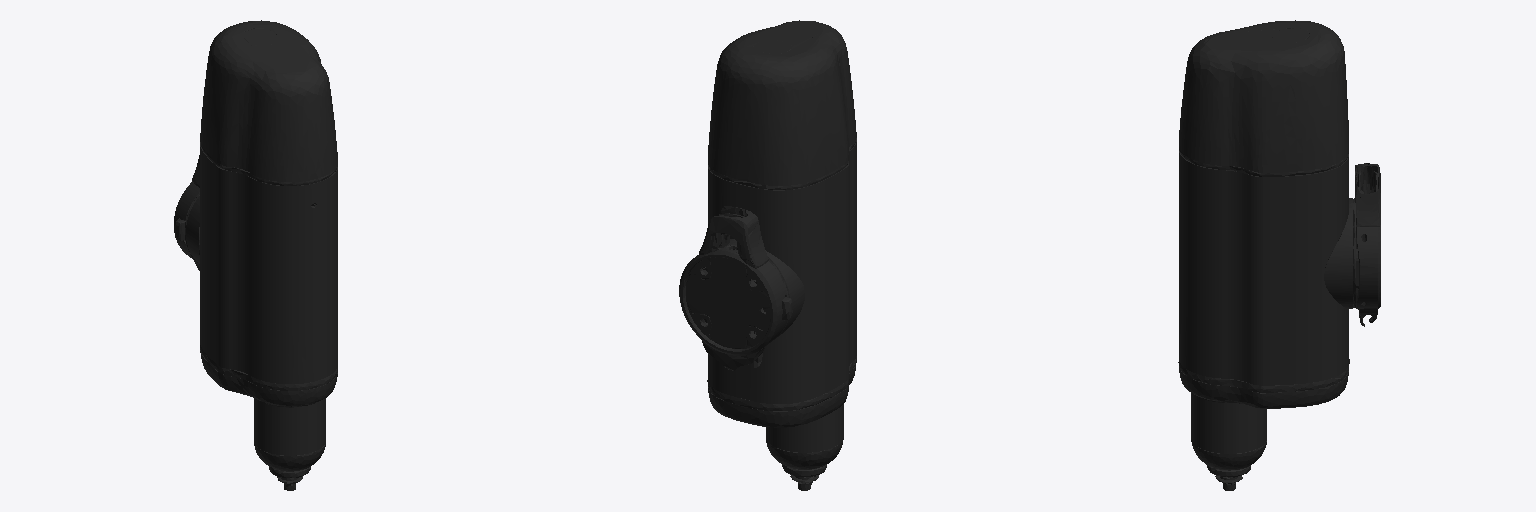
robot.urdf — onrobot_sd:
<?xml version="1.0" ?>
<!-- =================================================================================== -->
<!-- |    This document was autogenerated by xacro from onrobot_sd.urdf.xacro               | -->
<!-- |    EDITING THIS FILE BY HAND IS NOT RECOMMENDED                                 | -->
<!-- =================================================================================== -->
<robot name="onrobot_sd">
  <link name="world"/>
  <link name="base_link">
    <inertial>
      <origin rpy="0 0 0" xyz="0 0 0.04607"/>
      <mass value="2.5"/>
      <inertia ixx="1.22763e-05" ixy="0.0" ixz="0.0" iyy="1.22763e-05" iyz="0.0" izz="1.22763e-05"/>
    </inertial>
    <visual>
      <origin rpy="0.0 0.0 0.0" xyz="0.0 0.0 0.0"/>
      <geometry>
        <mesh filename="package://onrobot_sd_description/meshes/visual/onrobot_sd.stl" scale="1 1 1"/>
      </geometry>
      <material name="">
        <color rgba="0.2 0.2 0.2 1"/>
      </material>
    </visual>
    <collision>
      <origin rpy="0.0 0.0 0.0" xyz="0.0 0.0 0.0"/>
      <geometry>
        <mesh filename="package://onrobot_sd_description/meshes/collision/onrobot_sd.stl" scale="1 1 1"/>
      </geometry>
    </collision>
  </link>
  <joint name="world_fixed_joint" type="fixed">
    <origin rpy="0.0 0.0 0.0" xyz="0.0 0.0 0.0"/>
    <parent link="world"/>
    <child link="base_link"/>
  </joint>
</robot>

--- What the picture shows (computed from the rendered views, not written in the file) ---
3 views of the same robot in one strip: view 1: azimuth 30°, elevation 25°; view 2: azimuth 150°, elevation 25°; view 3: azimuth 270°, elevation 25° (orthographic).
Model onrobot_sd with 2 links and 1 joints (1 fixed), rooted at world, posed all joints at 0.
Visible links, largest first — view 1: base_link; view 2: base_link; view 3: base_link.
Boxes of the visible links, x1,y1,x2,y2 form: base_link: [174, 20, 337, 490]; base_link: [679, 20, 856, 490]; base_link: [1178, 20, 1380, 490].
Size in the robot's own frame: 0.0861 by 0.1301 by 0.3239 metres.
1 mesh visuals loaded from 1 distinct referenced files (1 binary STL).